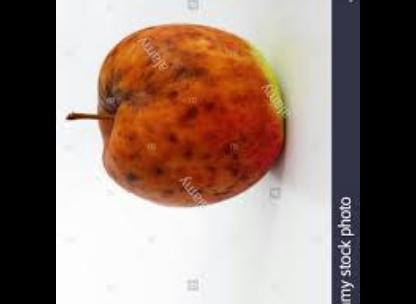defect: (105, 0, 270, 215)
